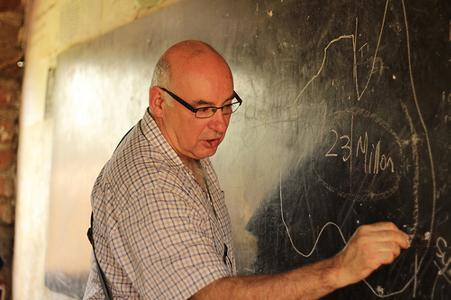person: (83, 39, 413, 299)
